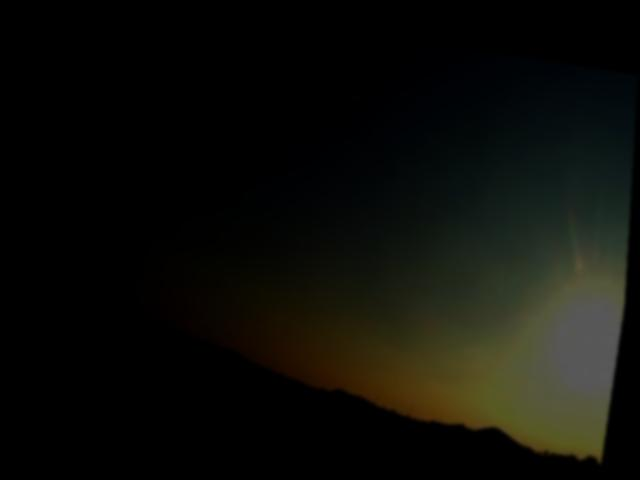uav: (285, 53, 377, 134)
